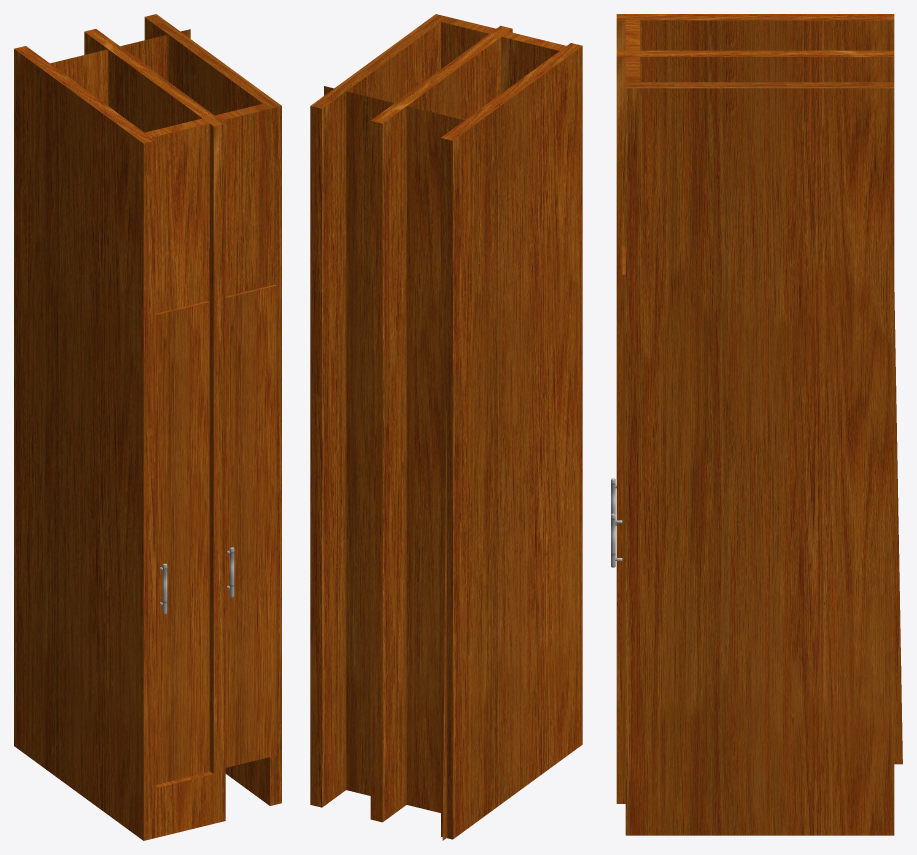
Rendered from Placard.FBX.
3 renders of one model, left to right at view 1: azimuth 30°, elevation 25°; view 2: azimuth 150°, elevation 25°; view 3: azimuth 270°, elevation 25°, orthographic. The views are drawn at different scales.
Visible parts, largest first — view 1: Placard, PortePlacard_2, PortePlacard_003; view 2: Placard; view 3: Placard, PortePlacard_003.
Boxes of the visible parts, <box> form: Placard: <box>14,14,281,840</box>; PortePlacard_2: <box>155,301,209,784</box>; PortePlacard_003: <box>225,284,276,767</box>; Placard: <box>310,14,582,840</box>; Placard: <box>616,14,902,835</box>; PortePlacard_003: <box>622,246,625,777</box>.
Size of the model in its own units: 0.6416 by 0.9912 by 2.8.
2 materials, 2 textured.
